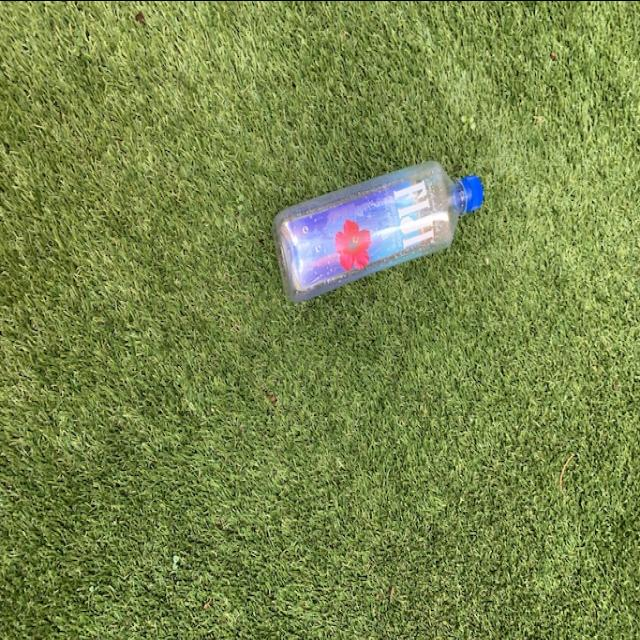PET: (274, 150, 492, 309)
